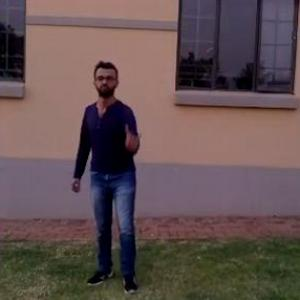takeoff-hand: (123, 116, 149, 156)
